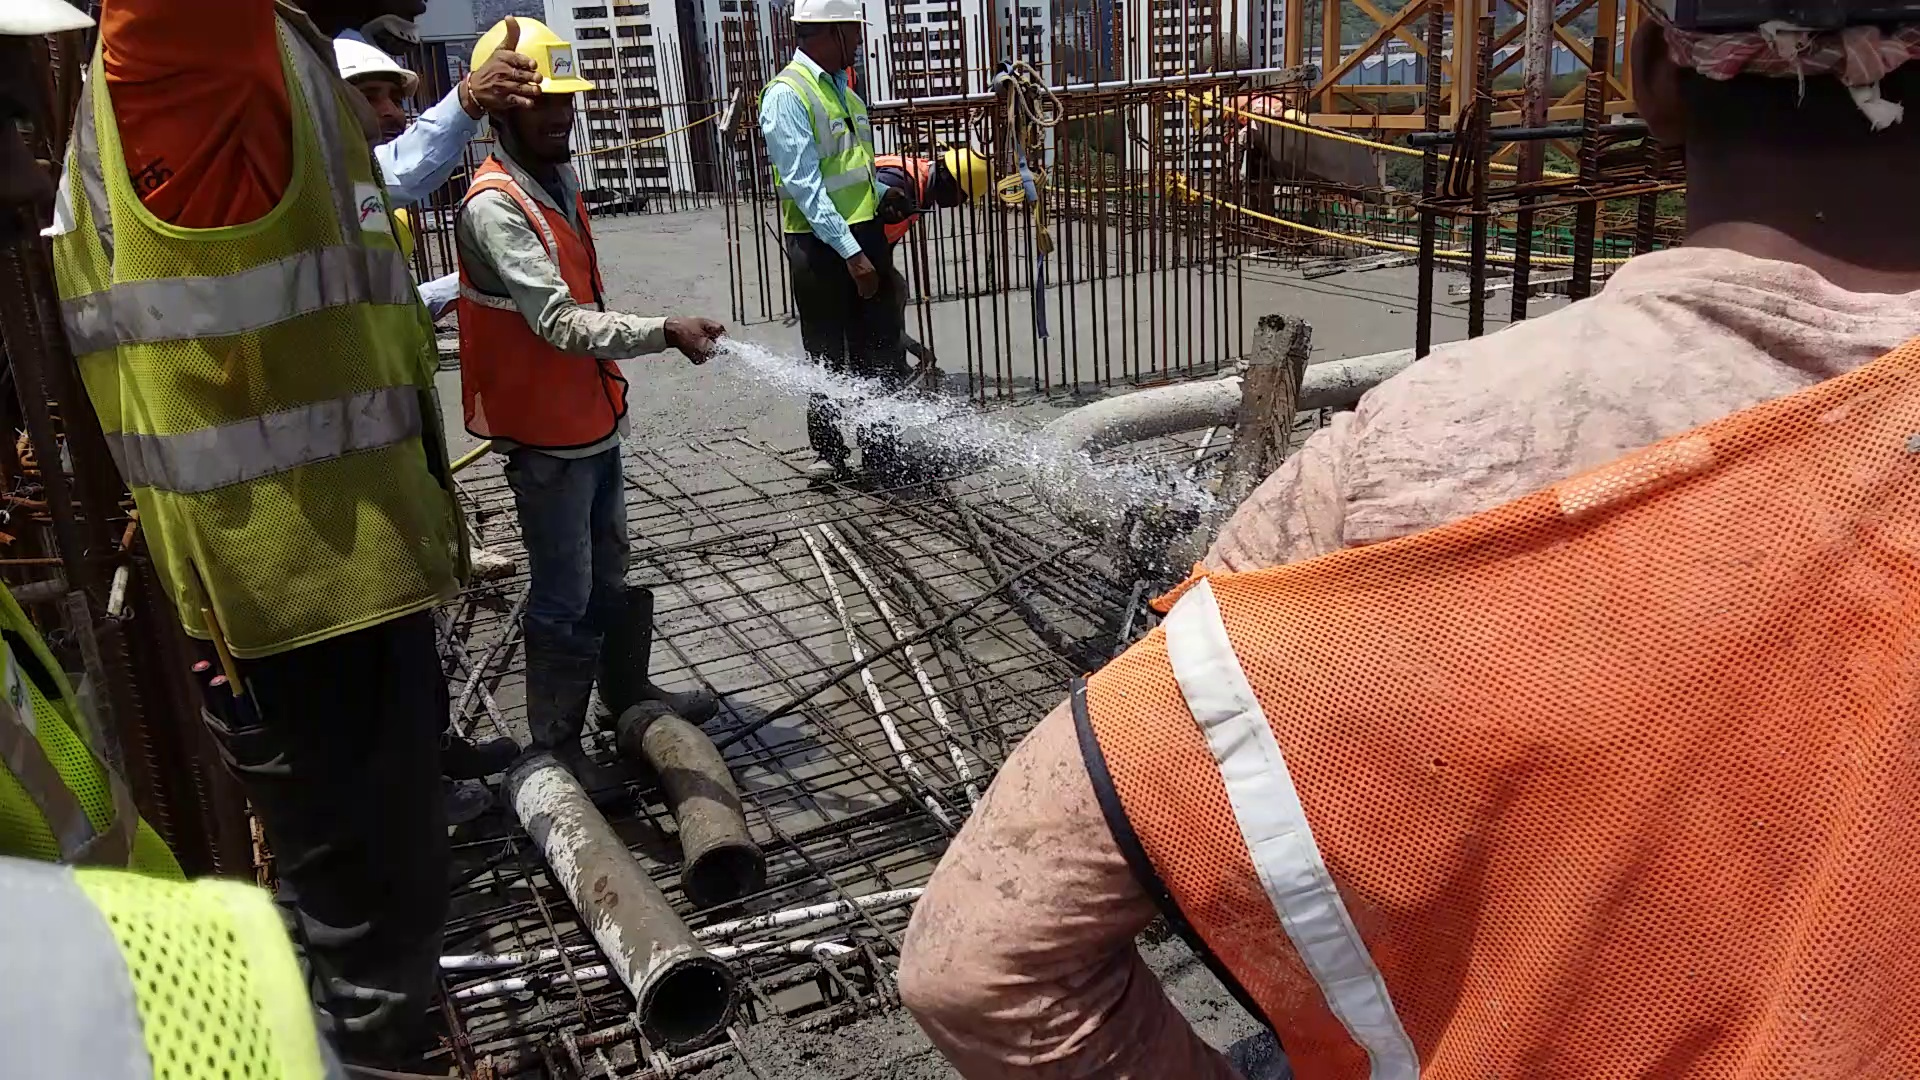SAFE: (456, 15, 616, 458), (752, 1, 881, 247)
